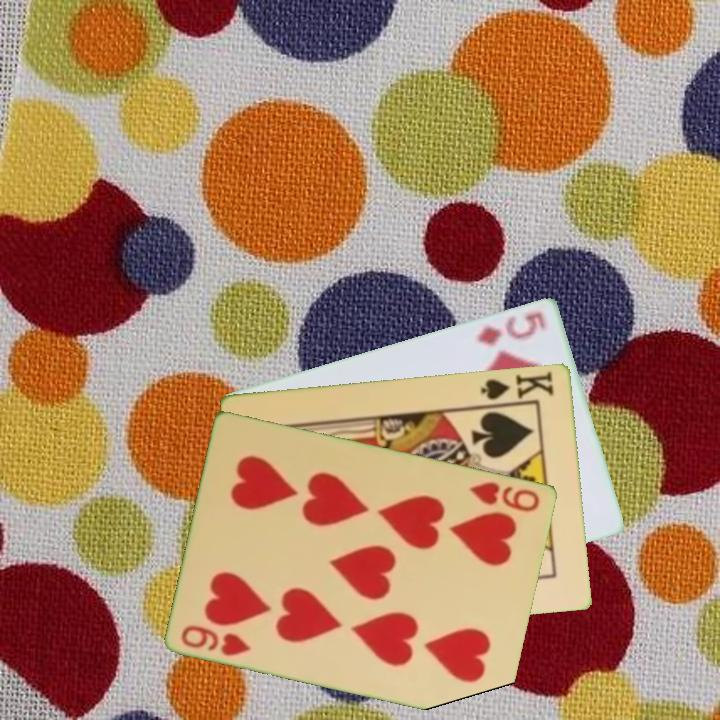5d: (473, 307, 549, 348)
9h: (466, 477, 543, 515), (178, 621, 254, 659)
Ks: (477, 367, 557, 408)
